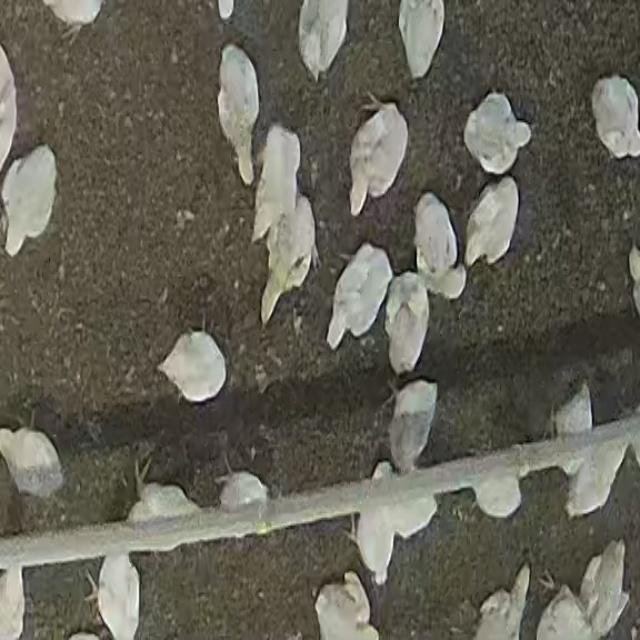chicken: (346, 95, 408, 214), (325, 244, 391, 348), (265, 193, 317, 321), (1, 144, 59, 254), (217, 43, 261, 184), (462, 92, 530, 175), (254, 125, 300, 247), (154, 331, 228, 401), (464, 178, 520, 268), (0, 425, 64, 502), (565, 439, 626, 518), (388, 382, 442, 469), (384, 274, 430, 373), (356, 467, 394, 585), (413, 191, 458, 284), (591, 74, 640, 159), (550, 380, 592, 474), (96, 554, 142, 638), (587, 538, 627, 626)
